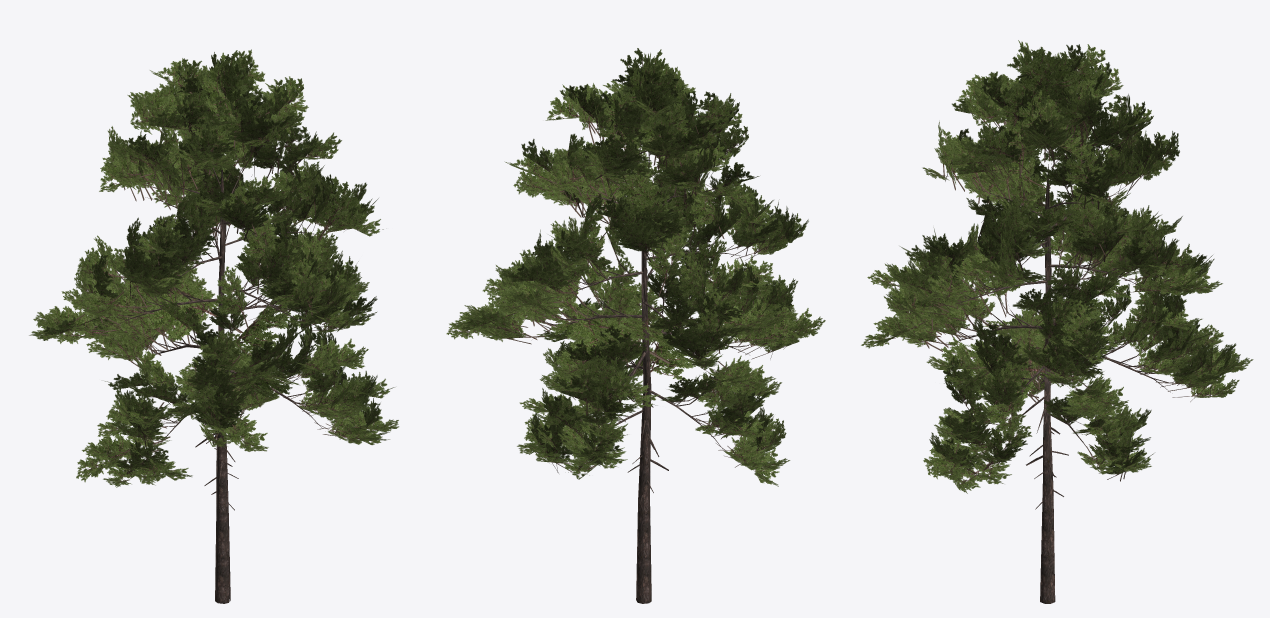
The model's file is pine_0.glb.
The picture shows the model from 3 angles, left to right: view 1: azimuth 30°, elevation 25°; view 2: azimuth 150°, elevation 25°; view 3: azimuth 270°, elevation 25°; orthographic projection.
Parts seen in each view (by area): view 1: PineTree; view 2: PineTree; view 3: PineTree.
Part boxes in pixels (box(x1,y1,x2,y2)): PineTree: box(29, 49, 398, 603); PineTree: box(446, 48, 825, 603); PineTree: box(861, 40, 1253, 603).
Size of the model in its own units: 11.33 by 17.65 by 11.08.
Materials: 2 (2 with a texture image).
